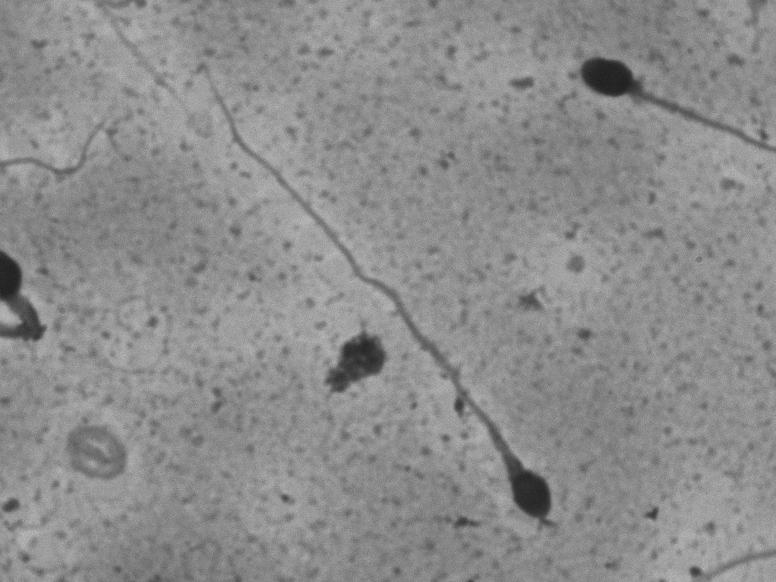Abnormal: (186, 49, 562, 533), (555, 17, 752, 171)
